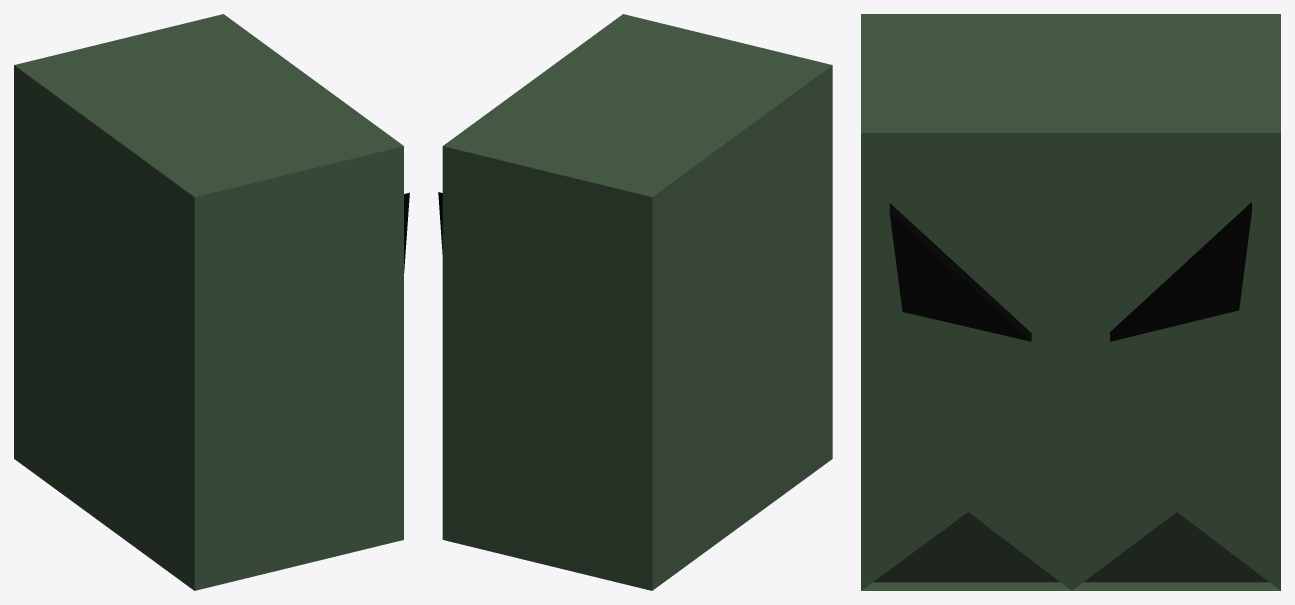
File: PorteFermee.fbx
The picture shows the model from 3 angles, left to right: view 1: azimuth 30°, elevation 25°; view 2: azimuth 150°, elevation 25°; view 3: azimuth 270°, elevation 25°; orthographic projection. The views are drawn at different scales.
Parts seen in each view (by area): view 1: Porte.003; view 2: Porte.003; view 3: Porte.003.
Boxes of the visible parts, x1,y1,x2,y2 form: Porte.003: (14,14,409,590); Porte.003: (438,14,832,590); Porte.003: (861,14,1280,590).
Size of the model in its own units: 100 by 165 by 137.
